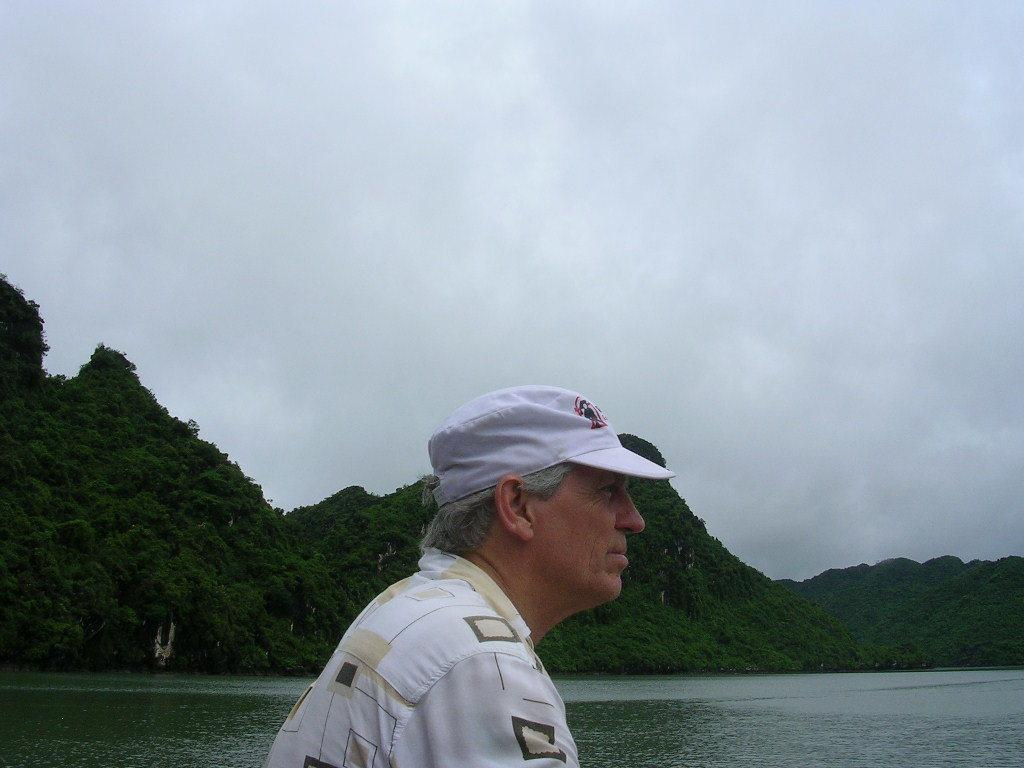Hat: (427, 384, 679, 512)
